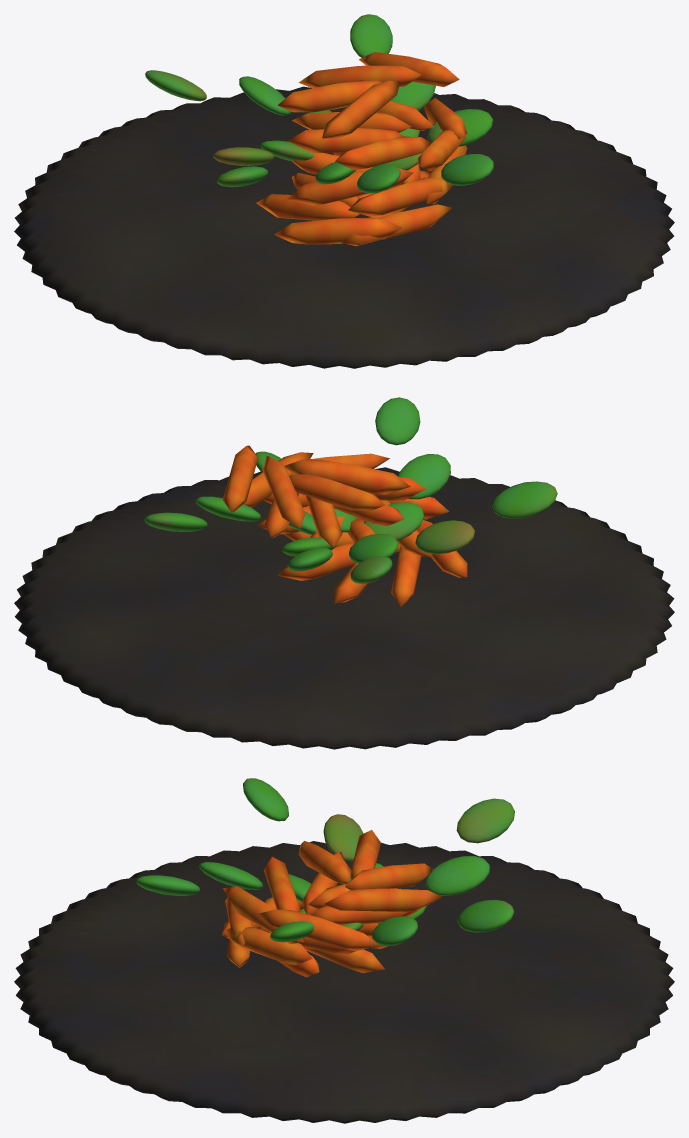
Rendered from golden-chilli-potato-balanced.glb.
3 views of the same model, one above another, from view 1: azimuth 30°, elevation 25°; view 2: azimuth 150°, elevation 25°; view 3: azimuth 270°, elevation 25° (orthographic).
Parts seen in each view (by area): view 1: Mesh_Porcelain_Appetizer_Platter, Mesh_Honey_Chilli_Potato_Fingers, Mesh_Caramelized_Capsicum_And_Sesame; view 2: Mesh_Porcelain_Appetizer_Platter, Mesh_Honey_Chilli_Potato_Fingers, Mesh_Caramelized_Capsicum_And_Sesame; view 3: Mesh_Porcelain_Appetizer_Platter, Mesh_Honey_Chilli_Potato_Fingers, Mesh_Caramelized_Capsicum_And_Sesame.
Boxes of the visible parts, bbox=[...] form: Mesh_Porcelain_Appetizer_Platter: bbox=[14, 86, 674, 368]; Mesh_Honey_Chilli_Potato_Fingers: bbox=[256, 52, 467, 246]; Mesh_Caramelized_Capsicum_And_Sesame: bbox=[145, 14, 493, 193]; Mesh_Porcelain_Appetizer_Platter: bbox=[14, 467, 674, 749]; Mesh_Honey_Chilli_Potato_Fingers: bbox=[222, 445, 467, 606]; Mesh_Caramelized_Capsicum_And_Sesame: bbox=[144, 397, 557, 583]; Mesh_Porcelain_Appetizer_Platter: bbox=[14, 841, 674, 1123]; Mesh_Honey_Chilli_Potato_Fingers: bbox=[221, 830, 442, 977]; Mesh_Caramelized_Capsicum_And_Sesame: bbox=[136, 778, 514, 945].
Size of the model in its own units: 2.2 by 0.605 by 2.2.
3 materials, 3 textured.
